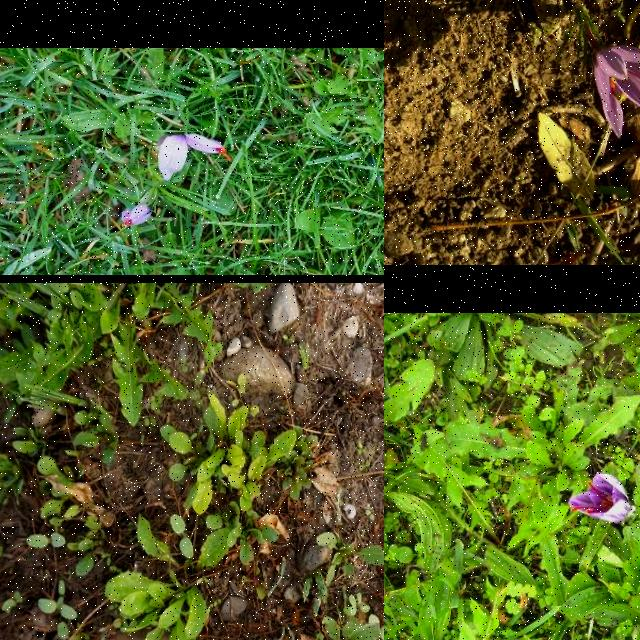flower: (594, 46, 640, 137), (158, 132, 232, 182), (567, 473, 633, 525), (121, 206, 152, 228)
